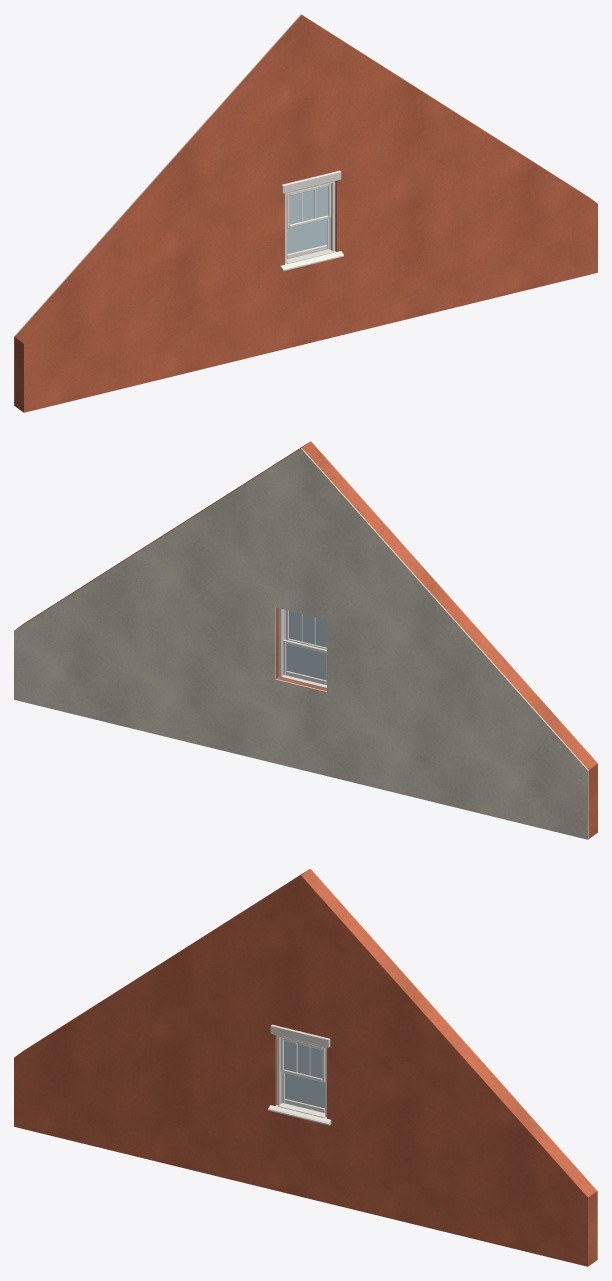
The model's file is gable_wall.glb.
3 renders of one model, top to bottom at view 1: azimuth 30°, elevation 25°; view 2: azimuth 150°, elevation 25°; view 3: azimuth 330°, elevation 25°, orthographic.
Parts seen in each view (by area): view 1: gable_wall_render, gable_wall_glass, gable_wall_trim, gable_wall_sash, gable_wall_frame, gable_wall_plaster; view 2: gable_wall_plaster, gable_wall_render, gable_wall_glass, gable_wall_sash; view 3: gable_wall_render, gable_wall_glass, gable_wall_trim, gable_wall_sash, gable_wall_frame, gable_wall_plaster.
Boxes of the visible parts, bbox=[...] form: gable_wall_render: bbox=[14, 15, 597, 412]; gable_wall_glass: bbox=[287, 186, 327, 254]; gable_wall_trim: bbox=[280, 170, 343, 271]; gable_wall_sash: bbox=[286, 183, 331, 258]; gable_wall_frame: bbox=[285, 181, 335, 263]; gable_wall_plaster: bbox=[14, 14, 301, 405]; gable_wall_plaster: bbox=[14, 448, 588, 839]; gable_wall_render: bbox=[17, 441, 597, 838]; gable_wall_glass: bbox=[286, 610, 326, 680]; gable_wall_sash: bbox=[283, 610, 326, 684]; gable_wall_render: bbox=[14, 869, 597, 1266]; gable_wall_glass: bbox=[284, 1040, 324, 1108]; gable_wall_trim: bbox=[268, 1024, 331, 1125]; gable_wall_sash: bbox=[280, 1037, 325, 1112]; gable_wall_frame: bbox=[276, 1035, 326, 1117]; gable_wall_plaster: bbox=[310, 868, 597, 1259].
Bounding box in the file's own units: 10 × 5.35 × 0.38.
6 materials, 2 textured.
